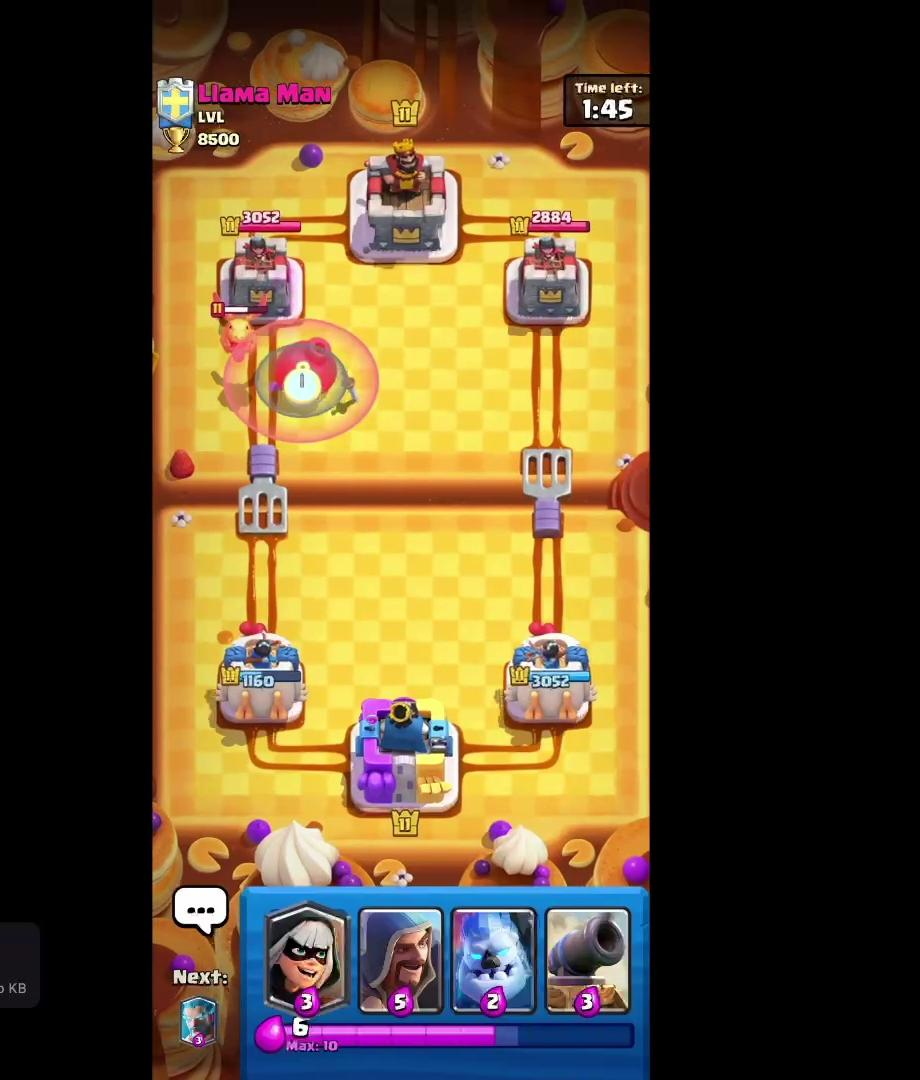Baby Dragon: (206, 295, 271, 371)
